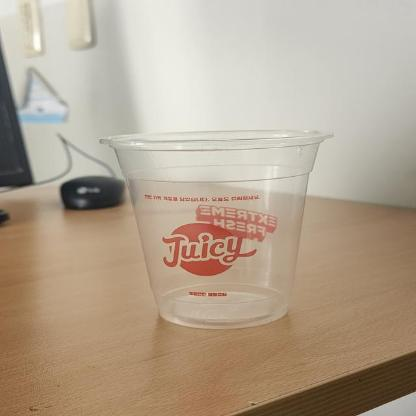Plastic Cup: (98, 128, 333, 328)
